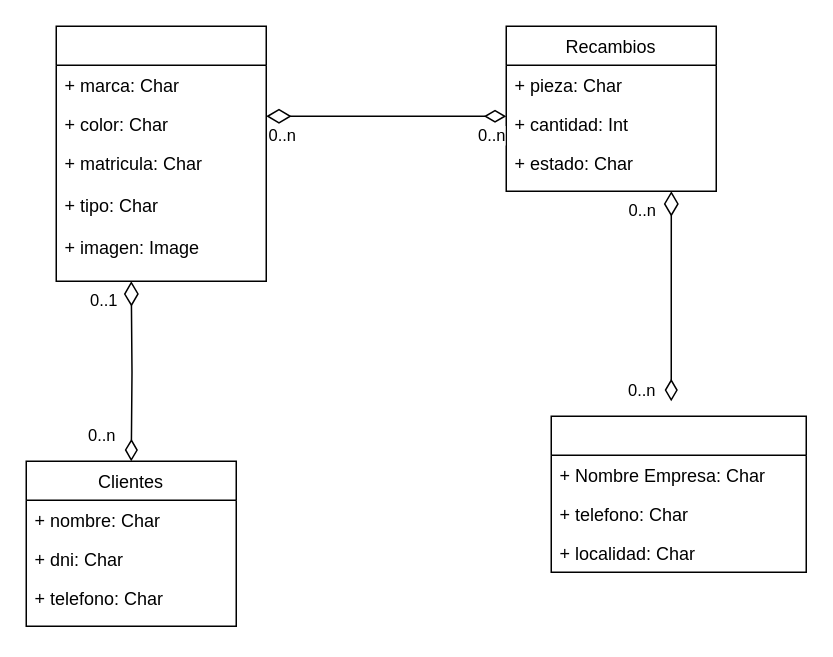
Some shapes in this 833 by 657 pixel diagram are drawn without their labels. The box of each missing label's shape, as (x1, y1, x2, y2) in pixels:
Proveedores: (550, 415, 806, 572)
Vehiculos: (55, 25, 266, 281)
